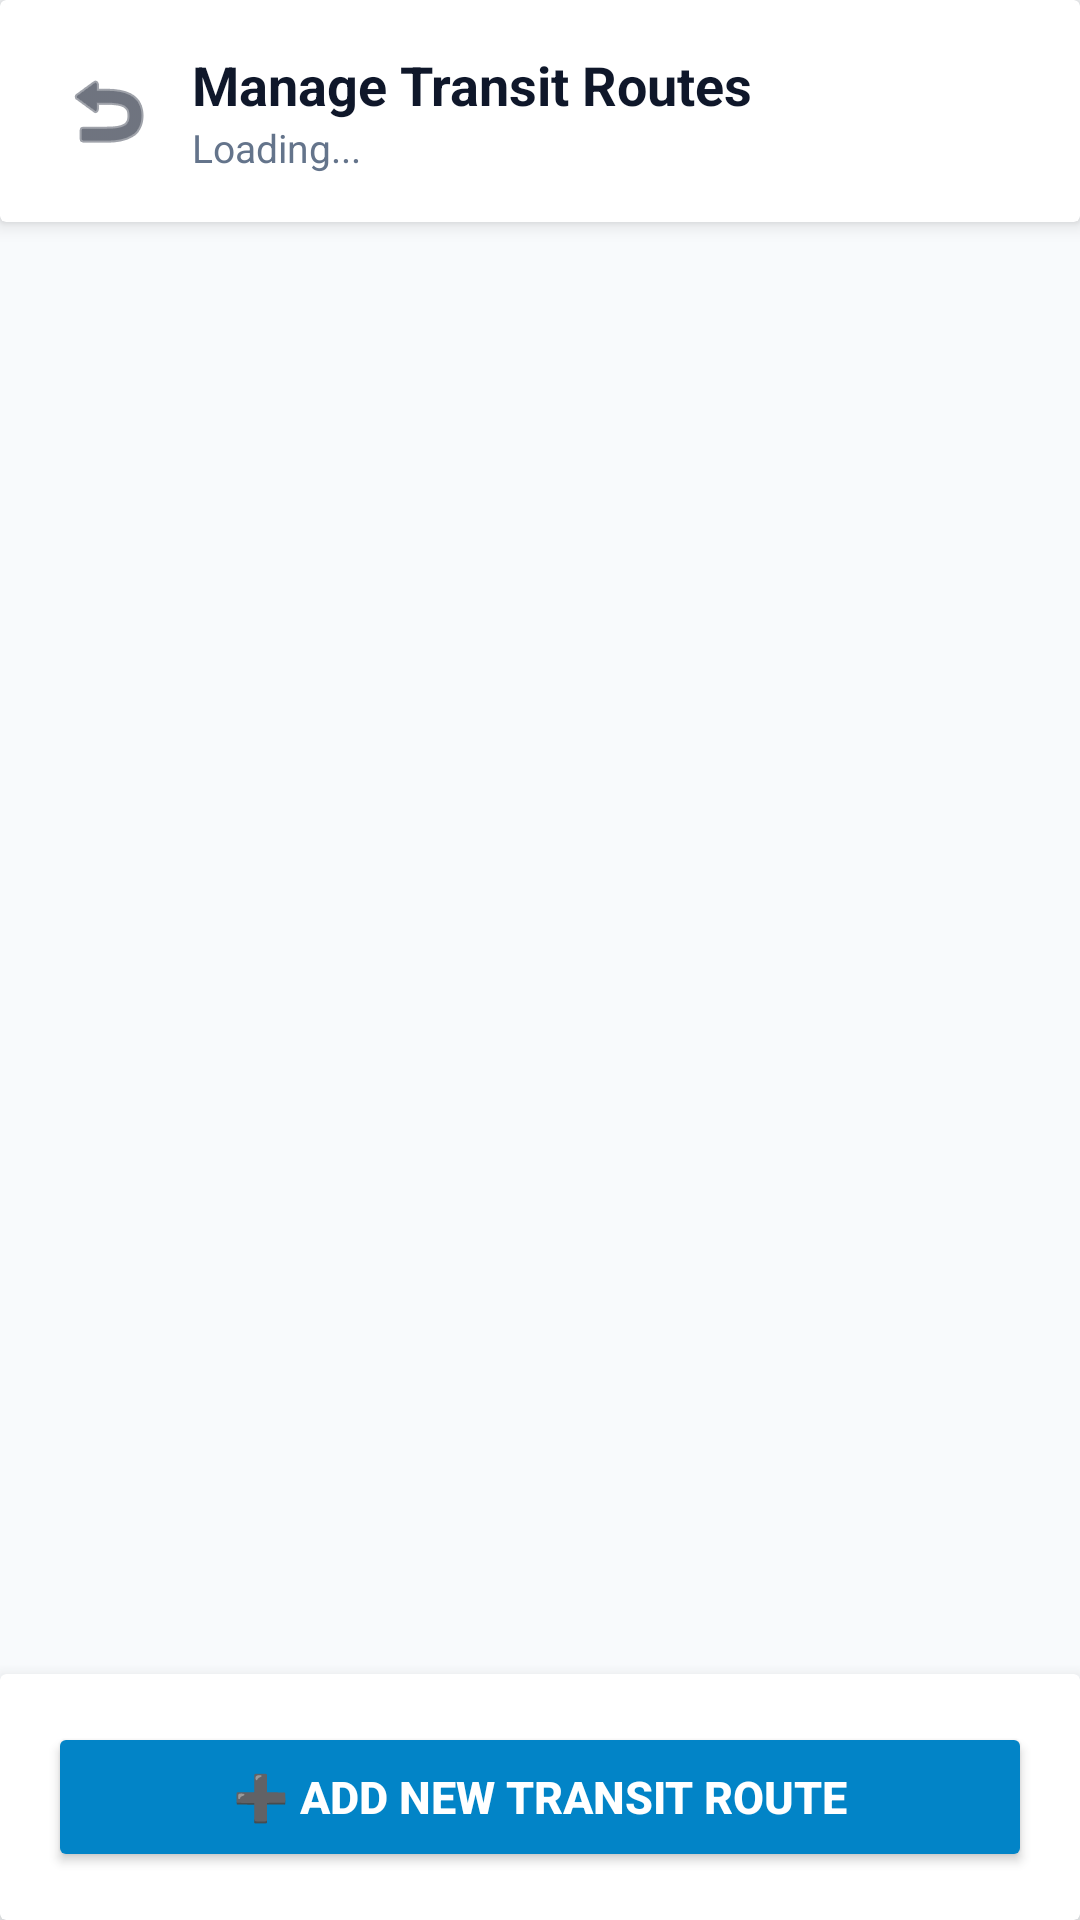

Where to tap for icons on this 1080 × 1920 app screen, as [x,y]:
revert: [109,111]
